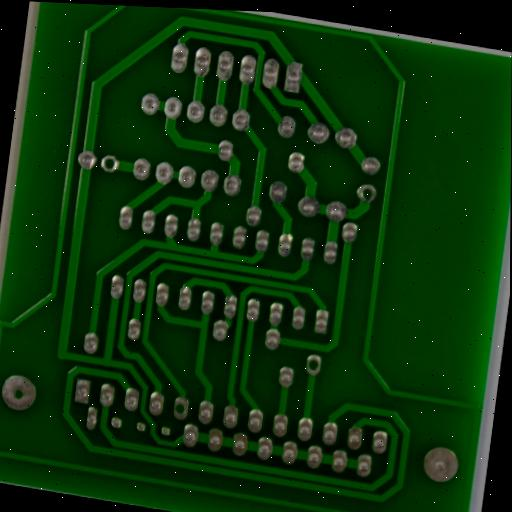missing_hole: (2, 375, 38, 412), (303, 354, 324, 377), (171, 396, 190, 420), (357, 183, 378, 203), (101, 155, 117, 173)
